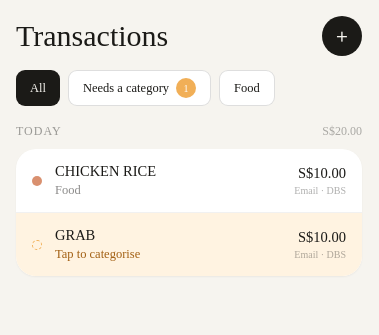
the Needs a category filter shows only uncategorized rows and the count badge
Expected: the text "CHICKEN RICE" is shown, 55,163 -> 156,179
What coordinates should you click on to do the following:
click the element with test id "filter-needs"
I would click on:
 (140, 88)
Its box is 68,70 -> 211,106.
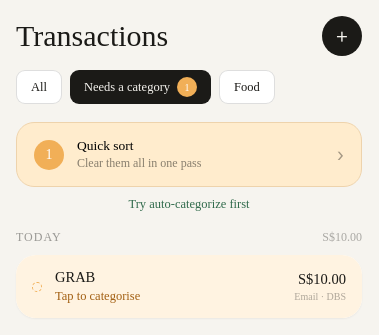
Expected: the text "GRAB" is shown, 55,269 -> 95,285
Result: the text "CHICKEN RICE" is gone
